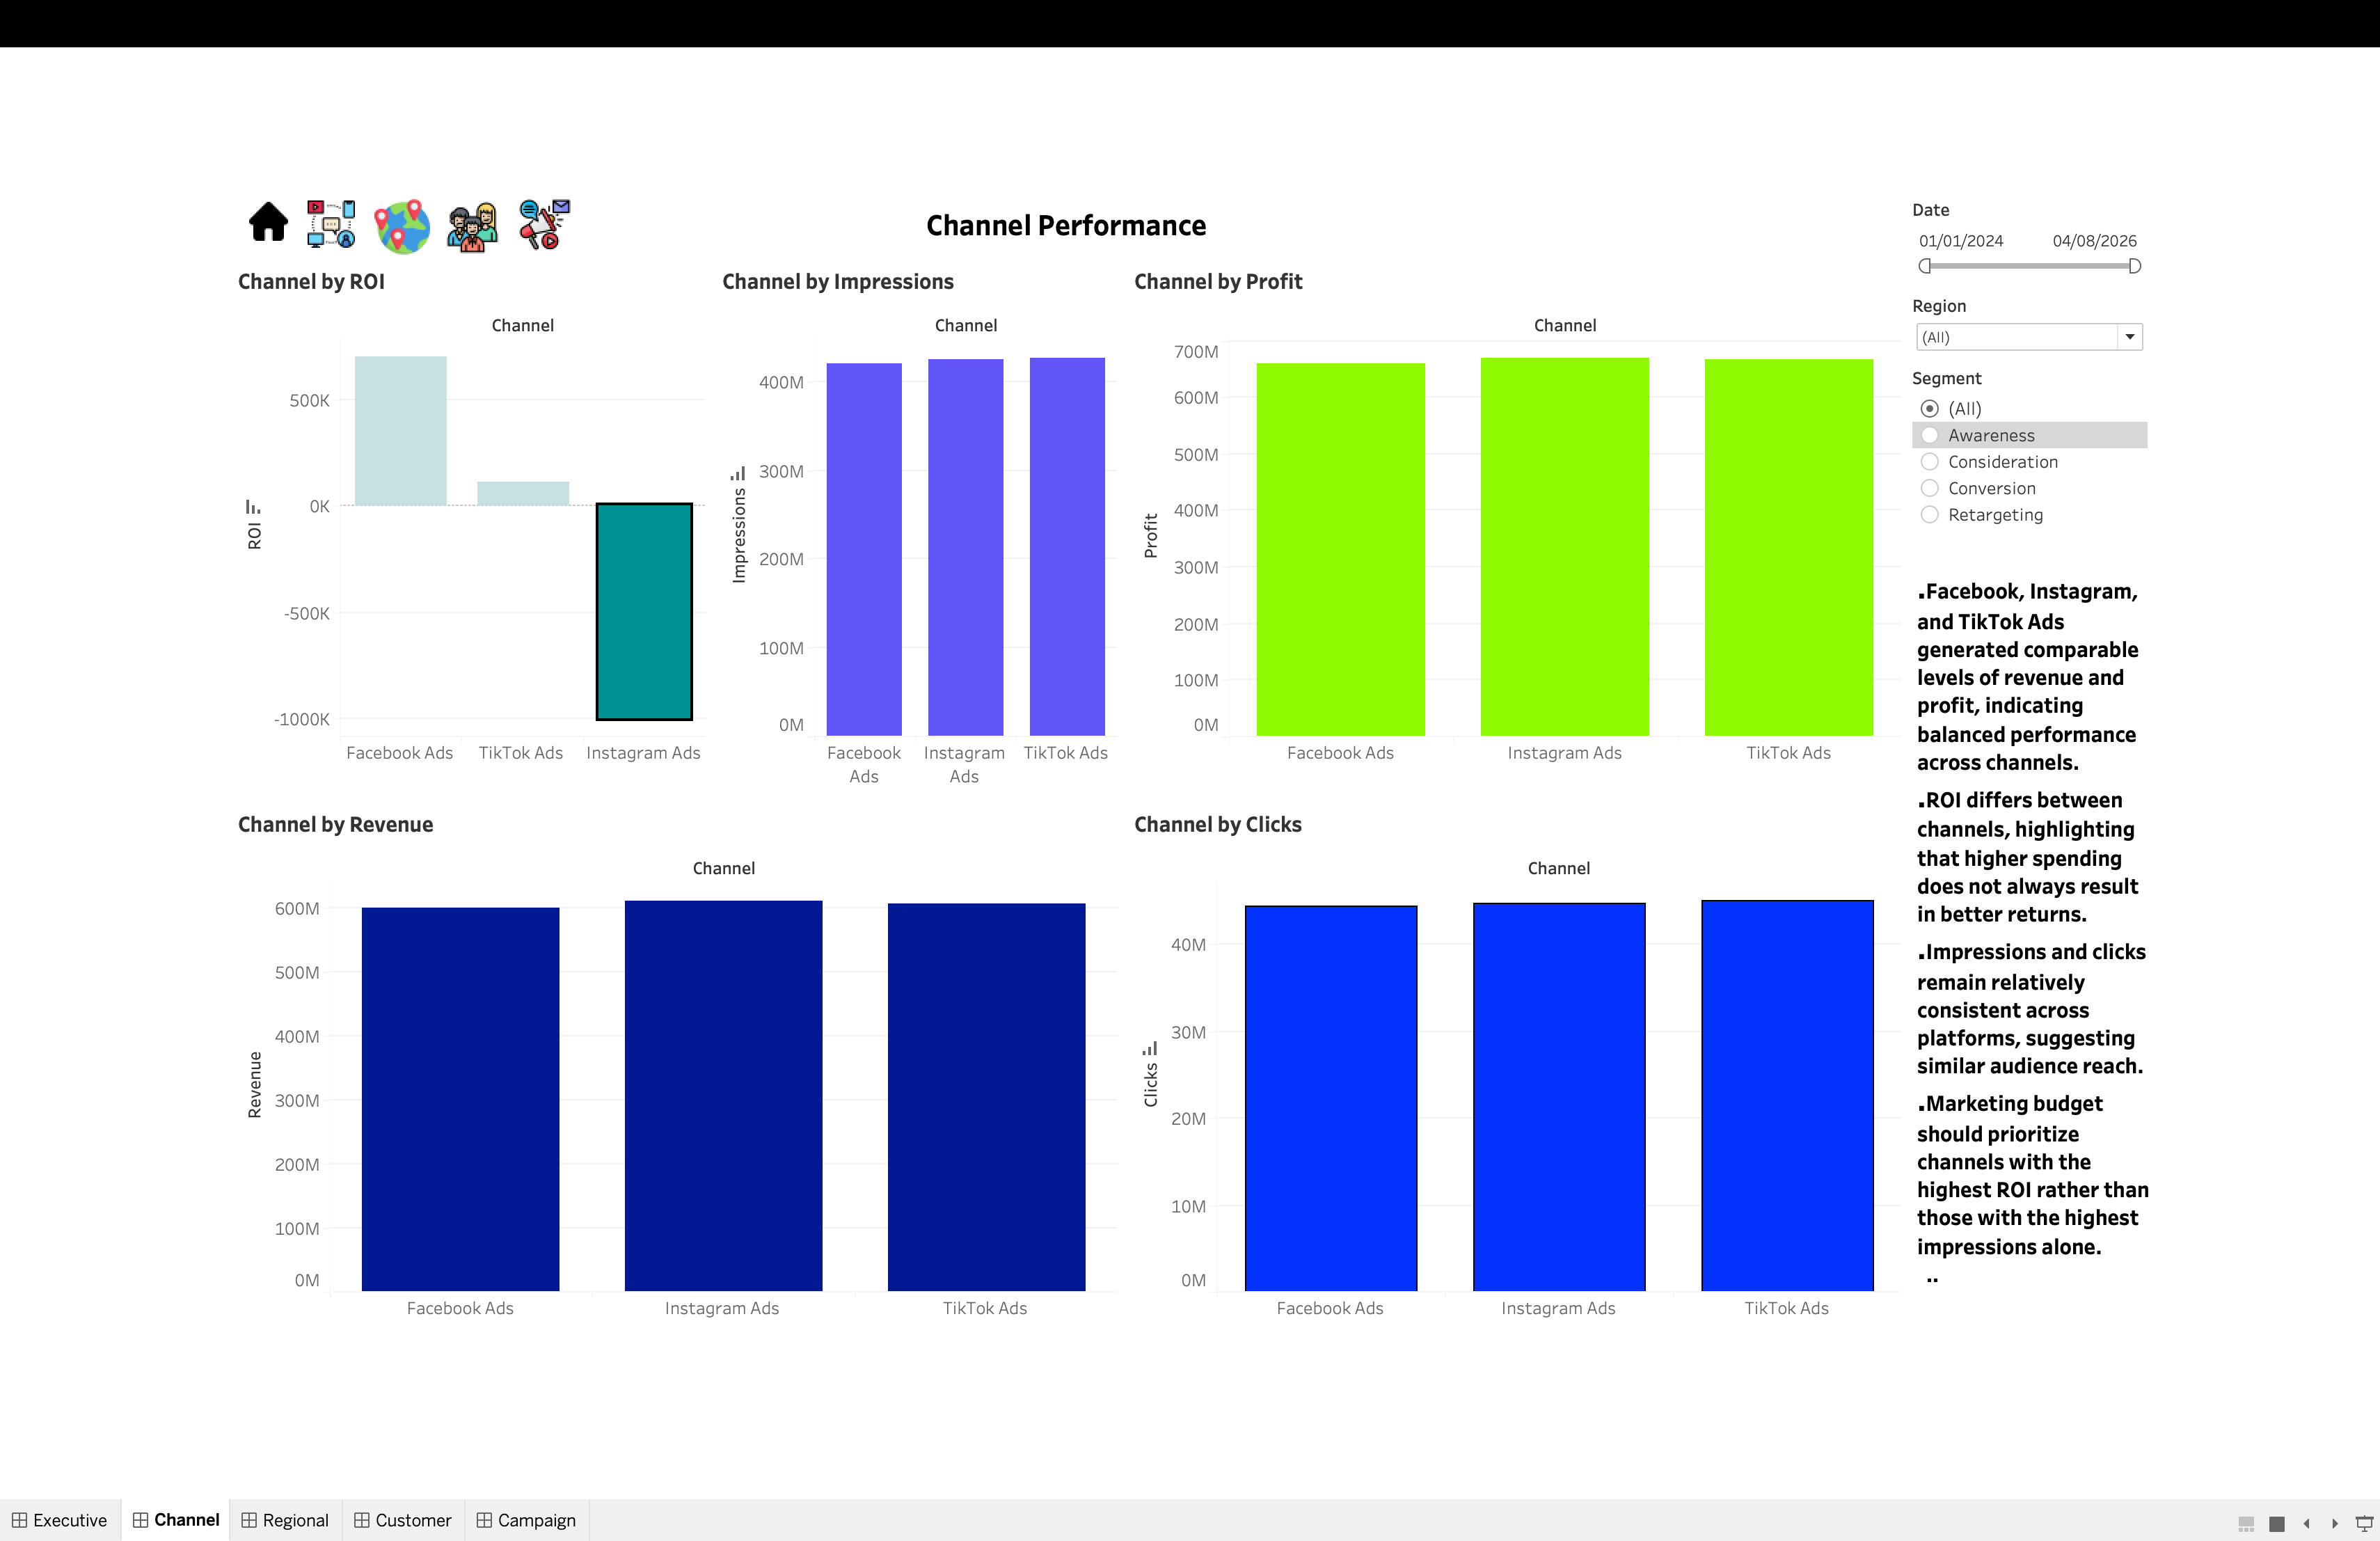

What the dashboard file says about the page in this screenshot:
{"tool":"tableau","page":{"name":"Channel","canvas":[1400,850],"ordinal":1},"visuals":[{"type":"text","box":[8,8,1207,45]},{"type":"filter","title":"Sheet 10","param":"[federated.07482ca1xi3uup1bdd56w1jny0fc].[none:date:qk]","box":[1215,8,177,69]},{"type":"dashboard-object","box":[114,12,40,42]},{"type":"dashboard-object","box":[218,13,37,37]},{"type":"dashboard-object","box":[64,14,38,34]},{"type":"dashboard-object","box":[23,15,30,28]},{"type":"dashboard-object","box":[158,15,54,37]},{"type":"worksheet","title":"Sheet 16","mark":"Automatic","rows":["ROI"],"cols":["channel"],"box":[8,53,348.3,390.1]},{"type":"worksheet","title":"Sheet 10","mark":"Automatic","rows":["impressions"],"cols":["channel"],"box":[356.3,53,295.6,390.1]},{"type":"worksheet","title":"Sheet 15","mark":"Automatic","rows":["Profit"],"cols":["channel"],"box":[651.9,53,563.1,390.1]},{"type":"filter","title":"Sheet 10","param":"[federated.07482ca1xi3uup1bdd56w1jny0fc].[none:region:nk]","box":[1215,77,177,52]},{"type":"filter","title":"Sheet 10","param":"[federated.07482ca1xi3uup1bdd56w1jny0fc].[none:segment:nk]","box":[1215,129,177,127]},{"type":"text","box":[1220,277,180,538]},{"type":"worksheet","title":"Sheet 14","mark":"Automatic","rows":["revenue"],"cols":["channel"],"box":[8,443.1,643.9,398.9]},{"type":"worksheet","title":"Sheet 9","mark":"Automatic","rows":["clicks"],"cols":["channel"],"box":[651.9,443.1,563.1,398.9]}]}

Visuals, with their boxes on the page's 1400x850 design canvas (x1, y1, x2, y2). These are canvas units, not pixel positions in the 2380x1541 screenshot, which may show the page scaled, cropped or inside an application window:
text: bbox(8, 8, 1215, 53)
"Sheet 10" filter: bbox(1215, 8, 1392, 77)
dashboard-object: bbox(114, 12, 154, 54)
dashboard-object: bbox(218, 13, 255, 50)
dashboard-object: bbox(64, 14, 102, 48)
dashboard-object: bbox(23, 15, 53, 43)
dashboard-object: bbox(158, 15, 212, 52)
"Sheet 16" worksheet: bbox(8, 53, 356, 443)
"Sheet 10" worksheet: bbox(356, 53, 652, 443)
"Sheet 15" worksheet: bbox(652, 53, 1215, 443)
"Sheet 10" filter: bbox(1215, 77, 1392, 129)
"Sheet 10" filter: bbox(1215, 129, 1392, 256)
text: bbox(1220, 277, 1400, 815)
"Sheet 14" worksheet: bbox(8, 443, 652, 842)
"Sheet 9" worksheet: bbox(652, 443, 1215, 842)
